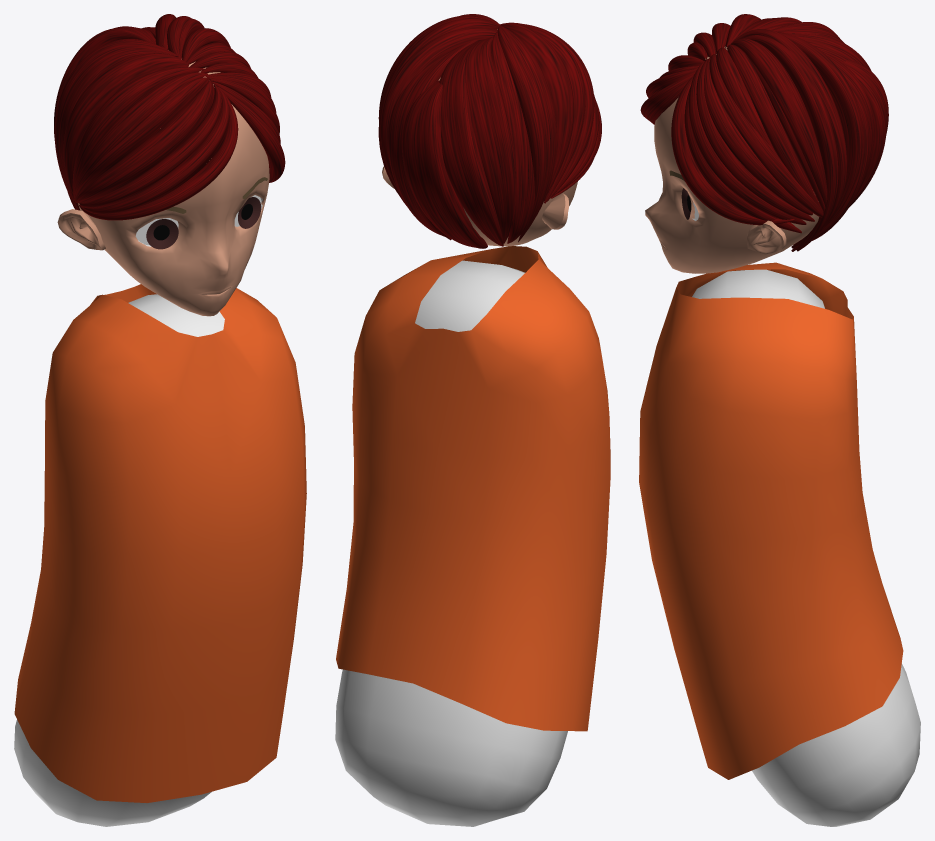
Rendered from Main NPC 5.fbx.
The picture shows the model from 3 angles, left to right: view 1: azimuth 30°, elevation 25°; view 2: azimuth 150°, elevation 25°; view 3: azimuth 270°, elevation 25°; orthographic projection. The views are drawn at different scales.
Parts seen in each view (by area): view 1: T-shirt.005, NurbsPath.110, Head with ears.005, body.005; view 2: T-shirt.005, NurbsPath.110, body.005, Head with ears.005; view 3: T-shirt.005, NurbsPath.110, body.005, Head with ears.005.
Boxes of the visible parts, x1,y1,x2,y2 form: T-shirt.005: (14, 284, 306, 802); NurbsPath.110: (54, 14, 285, 220); Head with ears.005: (57, 59, 269, 316); body.005: (14, 294, 224, 826); T-shirt.005: (336, 246, 610, 731); NurbsPath.110: (378, 14, 601, 248); body.005: (335, 260, 567, 826); Head with ears.005: (382, 29, 577, 246); T-shirt.005: (639, 262, 903, 779); NurbsPath.110: (640, 14, 888, 251); body.005: (692, 269, 920, 826); Head with ears.005: (645, 46, 818, 273).
Bounding box in the file's own units: 2.68 × 8.84 × 2.87.
Materials: 7 (1 with a texture image).
